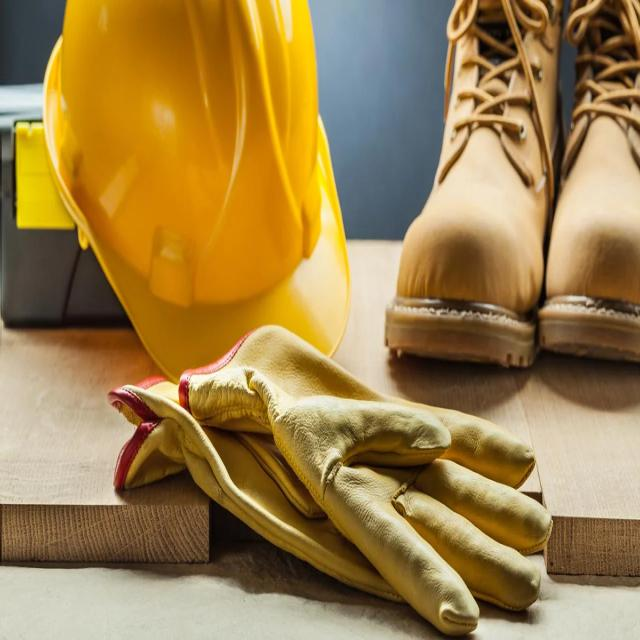Boots: (380, 0, 640, 378)
Gloves: (105, 318, 554, 640)
Hard Hat: (37, 0, 356, 384)
